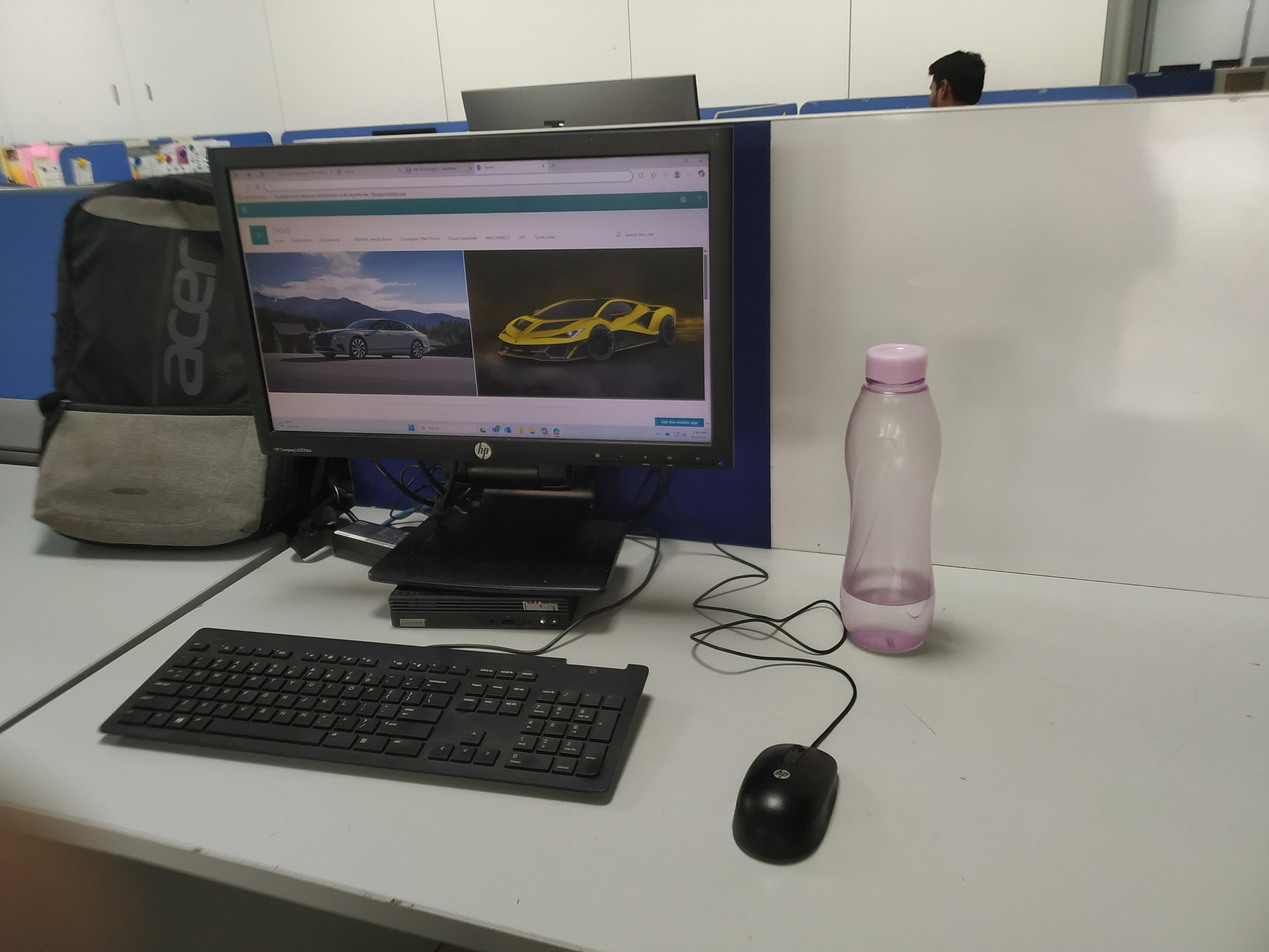bottle: (831, 319, 956, 665)
desktop: (204, 120, 744, 608)
keyboard: (92, 621, 654, 807)
mouse: (727, 736, 847, 871)
